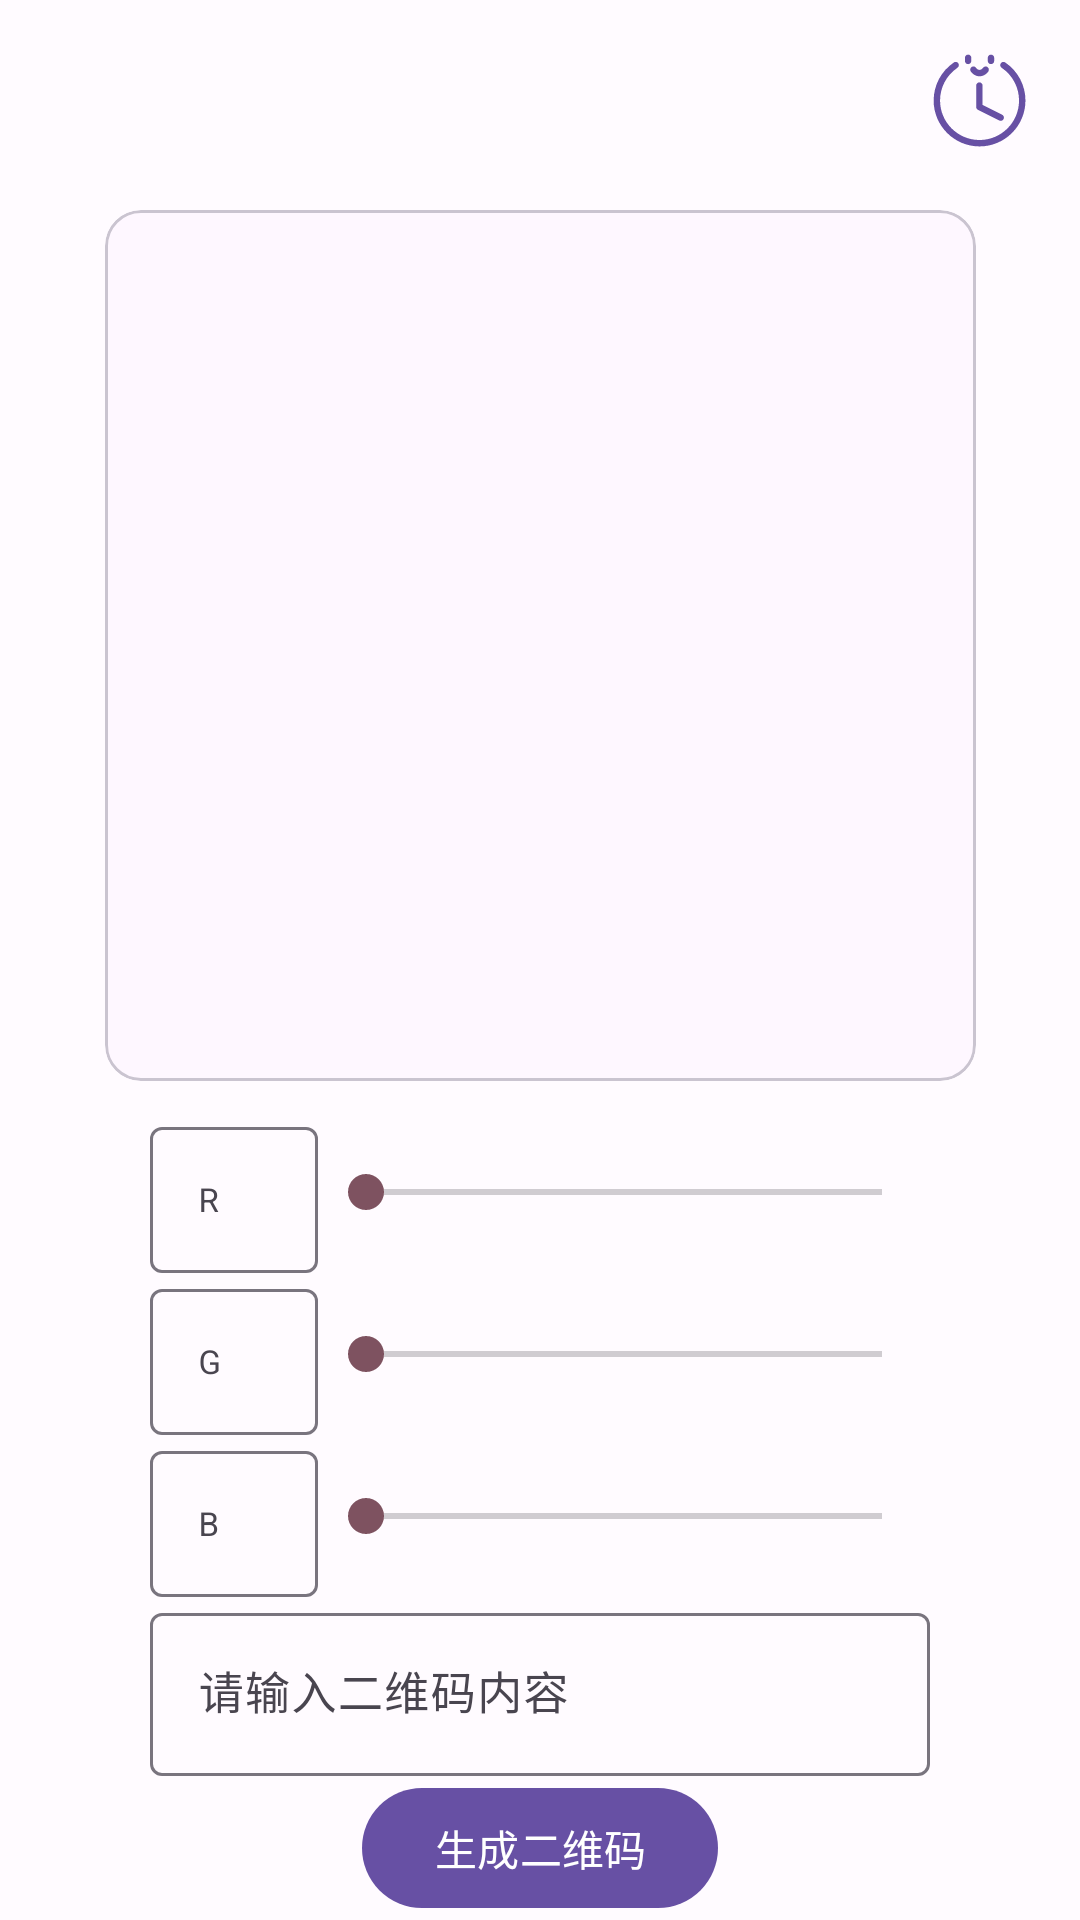

Icons on this 1080px x 1920px Android screen, each with its box as (x1, y1, x2, y2):
history: (933, 54, 1026, 147)
